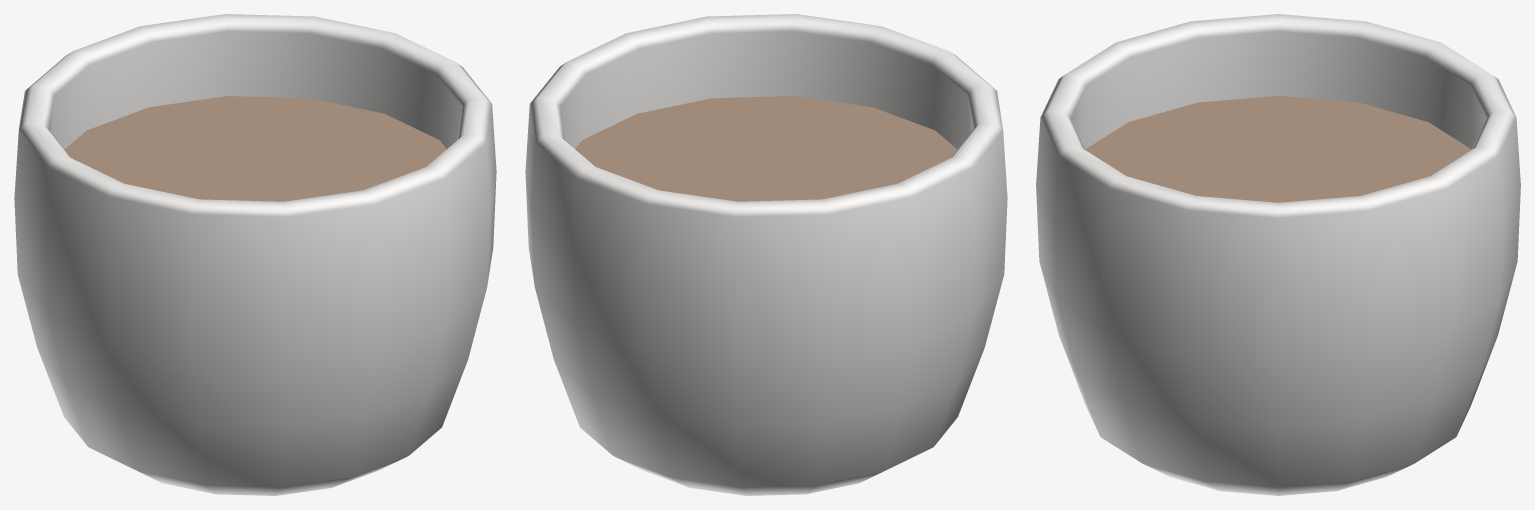
Rendered from Cup_2.glb.
3 renders of one model, left to right at view 1: azimuth 30°, elevation 25°; view 2: azimuth 150°, elevation 25°; view 3: azimuth 270°, elevation 25°, orthographic.
Visible parts, largest first — view 1: Cup_2; view 2: Cup_2; view 3: Cup_2.
Boxes of the visible parts, box(x1,y1,x2,y2) form: Cup_2: box(14, 14, 496, 495); Cup_2: box(525, 14, 1007, 495); Cup_2: box(1036, 14, 1520, 495).
Size of the model in its own units: 0.1109 by 0.0808 by 0.1109.
Materials: 2 (2 with a texture image).
